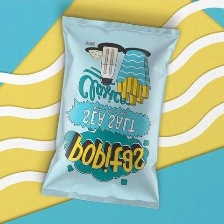snack: (35, 10, 184, 214)
